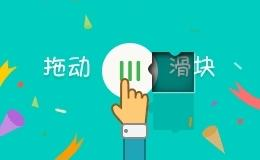target: (131, 32, 173, 72)
